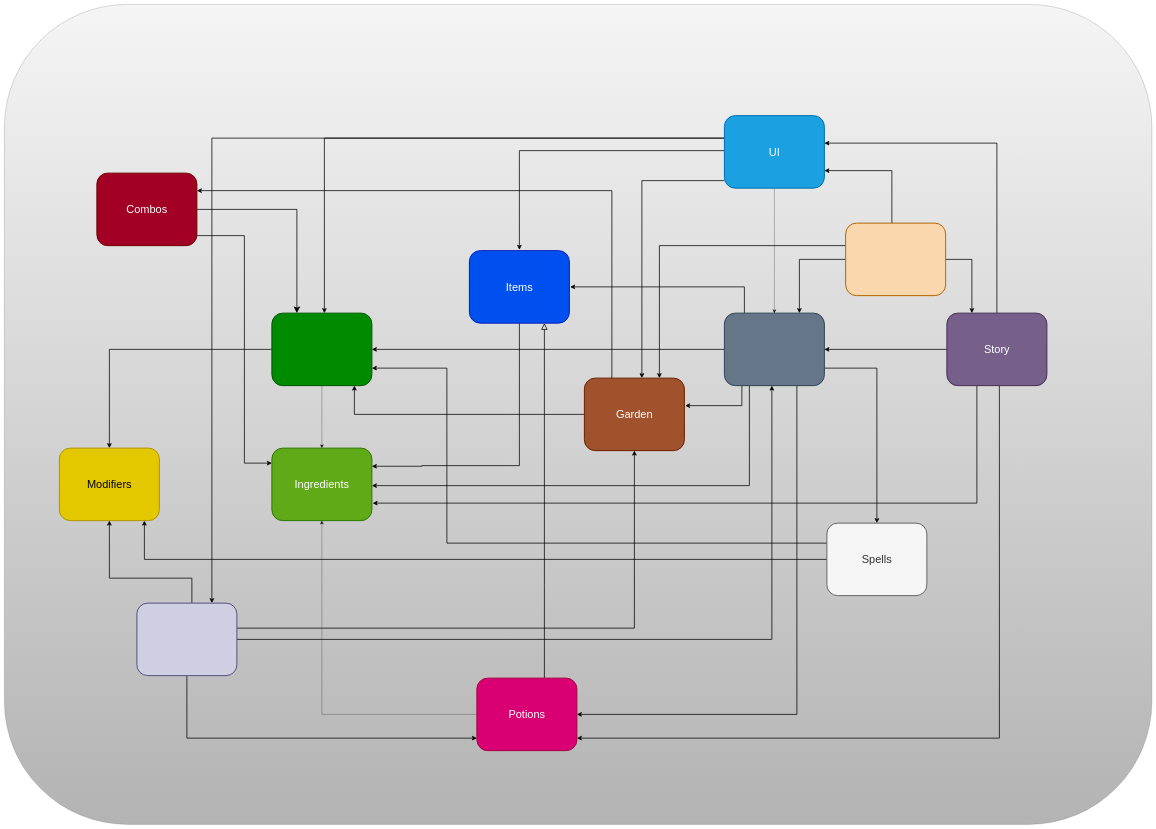
Image size: 1156x829. Some labels were removed from this diagram. The shapes that lost their labels are listed below. From the top down, each one's centre as x and y in pixels, then its label:
At (x=895, y=259): "TurnManager".
At (x=321, y=349): "Plants".
At (x=774, y=349): "Player".
At (x=186, y=639): "Research/Upgrades".
